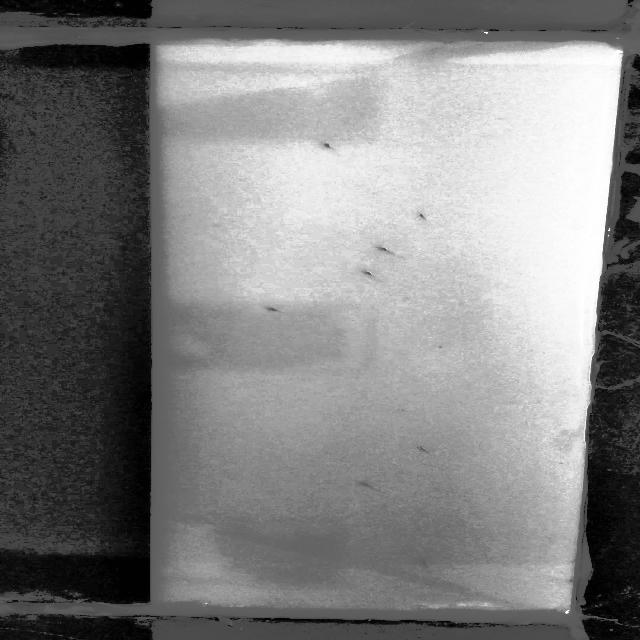shrimp: (402, 438, 436, 456), (262, 302, 294, 318), (315, 138, 338, 156), (353, 479, 382, 493), (404, 210, 431, 223), (374, 243, 394, 258), (354, 267, 376, 278)
